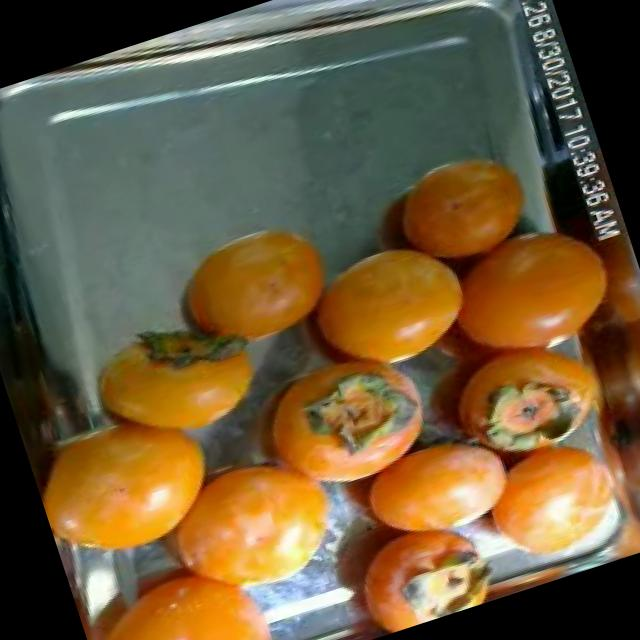Fruit: (18, 368, 254, 582), (284, 214, 493, 396), (146, 196, 360, 370), (367, 126, 556, 290)
